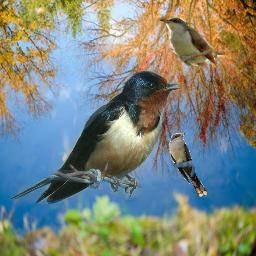Cuckoo: (157, 12, 225, 68), (169, 133, 207, 197)
Swallow: (10, 70, 180, 204)
